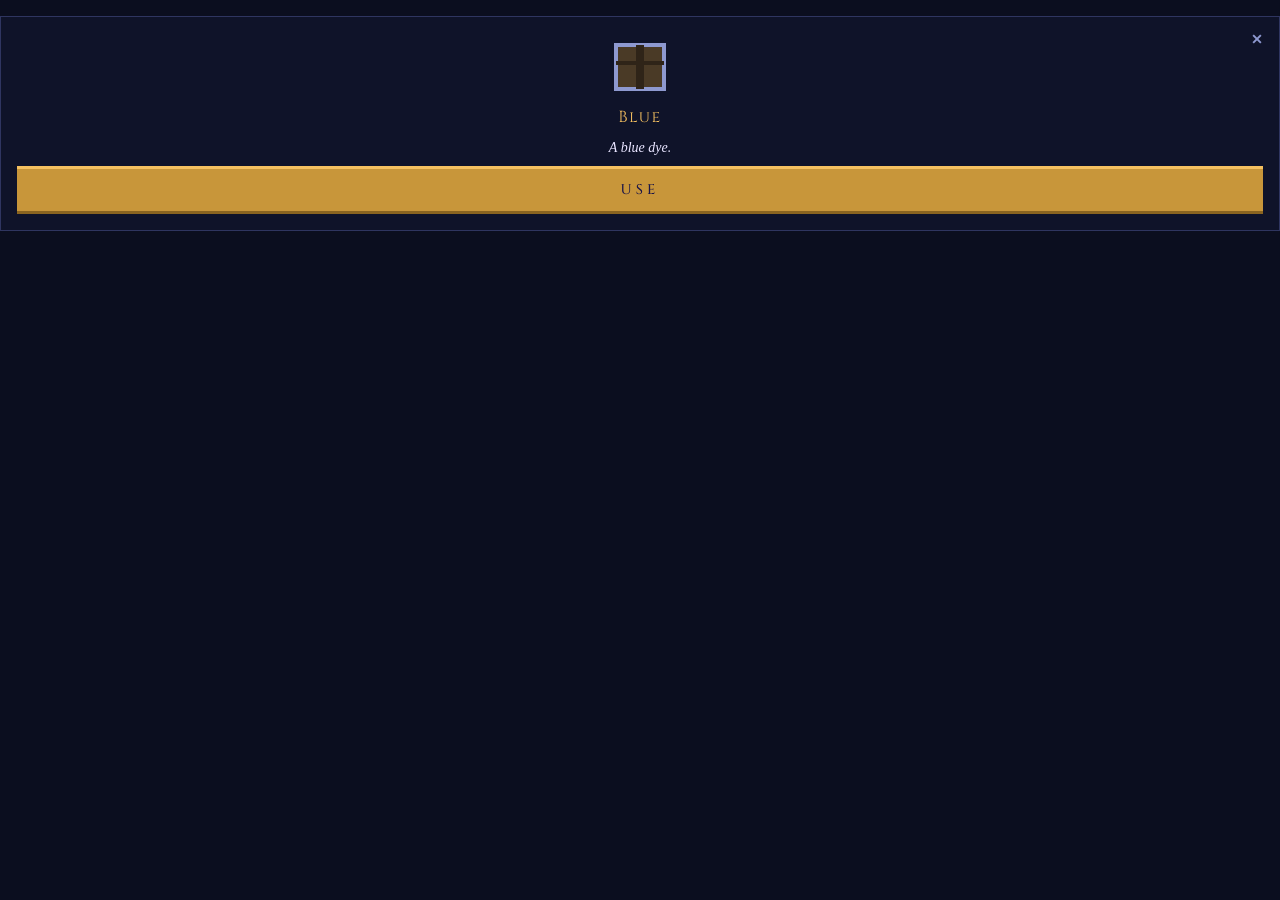
Test: consumable dyes › does not remove the drop or change colour when consumption fails
The width and height of the screenshot is (1280, 900).
Click the button "USE" at (640, 190), box [17, 166, 1263, 214]
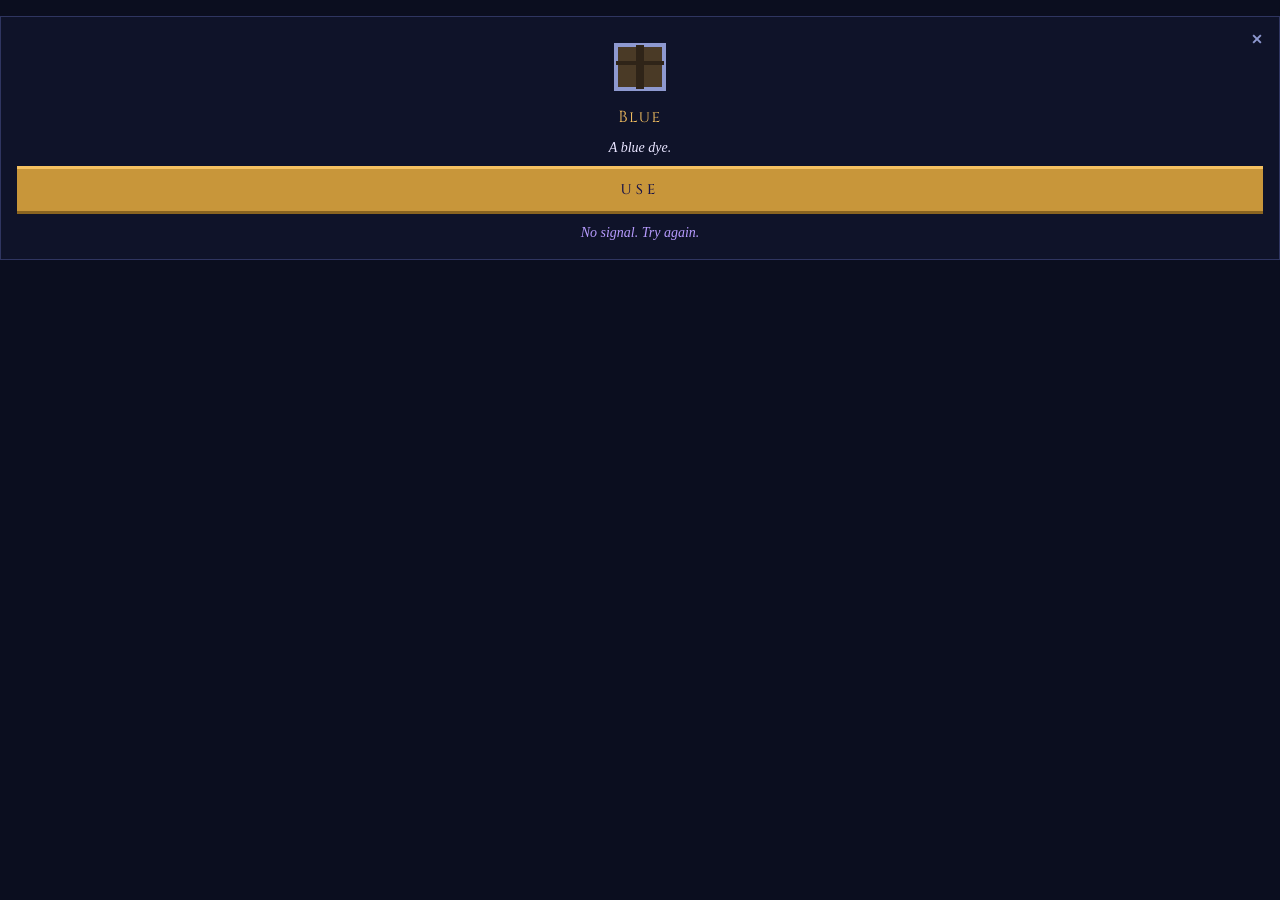
Result: the text "No signal. Try again." is shown at [581, 222, 699, 243]
